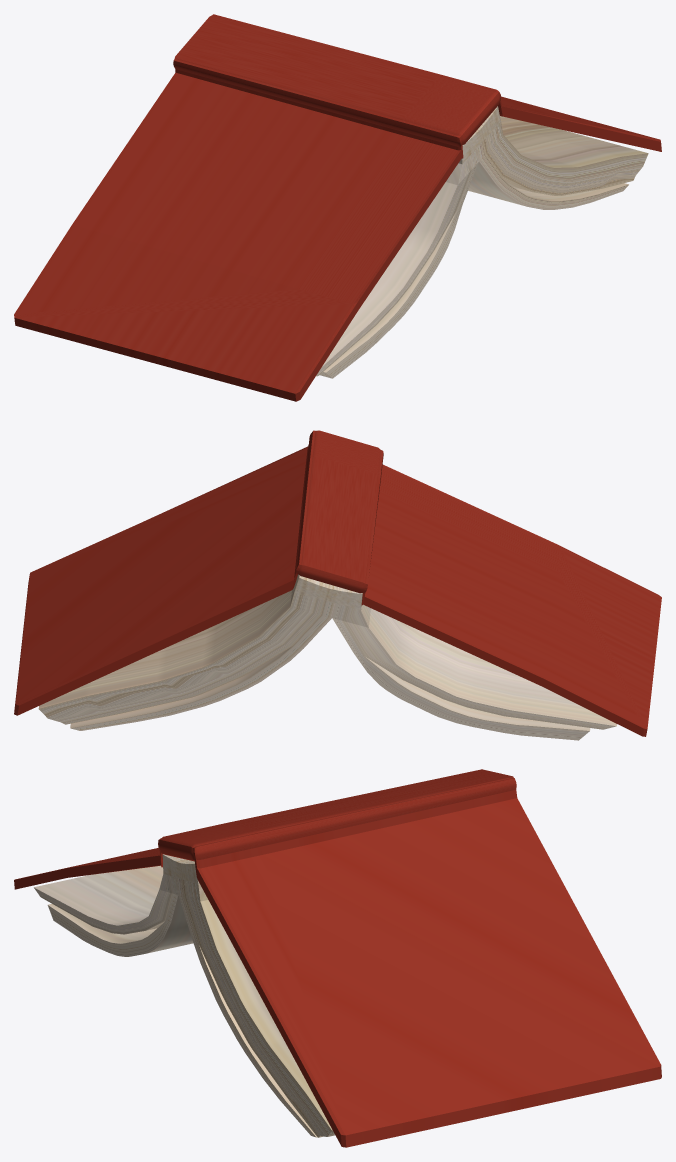
File: Books_Red.fbx
The picture shows the model from 3 angles, top to bottom: view 1: azimuth 30°, elevation 25°; view 2: azimuth 150°, elevation 25°; view 3: azimuth 270°, elevation 25°; orthographic projection. The views are drawn at different scales.
Parts seen in each view (by area): view 1: Cover1; view 2: Cover1; view 3: Cover1.
Part boxes in pixels (left/top/right/bottom): Cover1: left=14, top=14, right=661, bottom=401; Cover1: left=14, top=430, right=661, bottom=740; Cover1: left=14, top=769, right=661, bottom=1147.
Bounding box in the file's own units: 4.94 × 1.33 × 3.99.
Materials: 1 (1 with a texture image).
